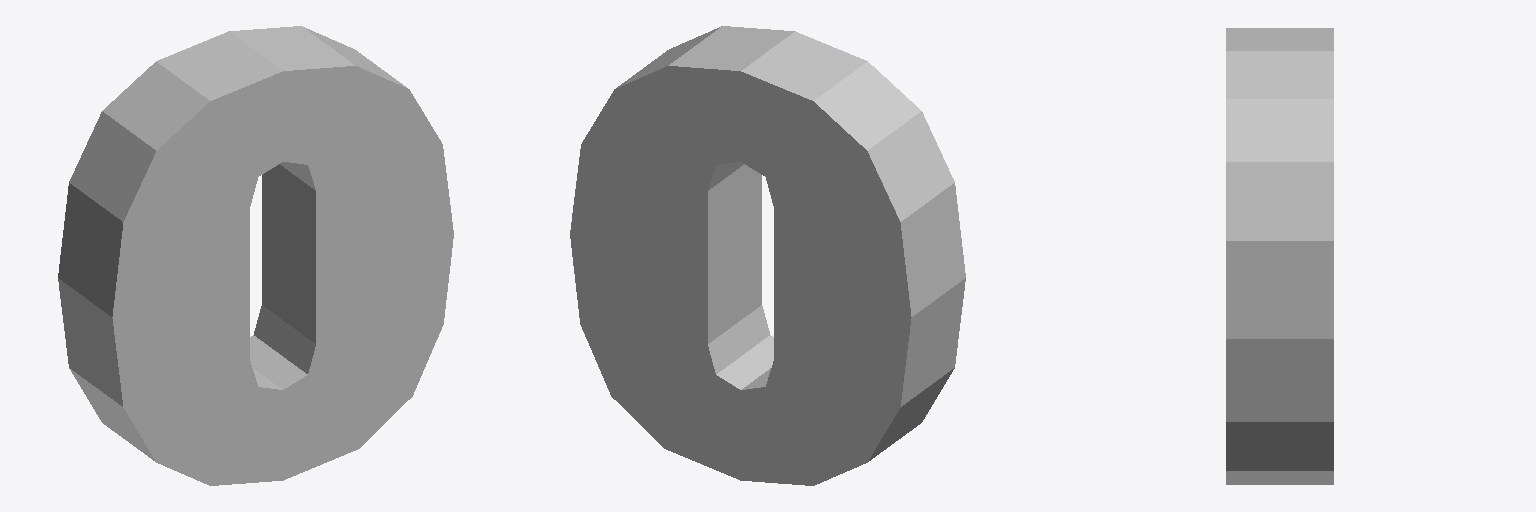
3 views of the same model, side by side, from view 1: azimuth 30°, elevation 25°; view 2: azimuth 150°, elevation 25°; view 3: azimuth 270°, elevation 25° (orthographic).
Parts seen in each view (by area): view 1: text: ABCDEFGHIJKLMNOPQRSTUVWXYZ[number redacted]; view 2: text: ABCDEFGHIJKLMNOPQRSTUVWXYZ[number redacted]; view 3: text: ABCDEFGHIJKLMNOPQRSTUVWXYZ[number redacted].
Part boxes in pixels (bbox=[...]): text: ABCDEFGHIJKLMNOPQRSTUVWXYZ[number redacted]: bbox=[58, 26, 453, 485]; text: ABCDEFGHIJKLMNOPQRSTUVWXYZ[number redacted]: bbox=[570, 26, 965, 485]; text: ABCDEFGHIJKLMNOPQRSTUVWXYZ[number redacted]: bbox=[1226, 28, 1333, 484].
Bounding box in the file's own units: 90.49 × 104 × 25.